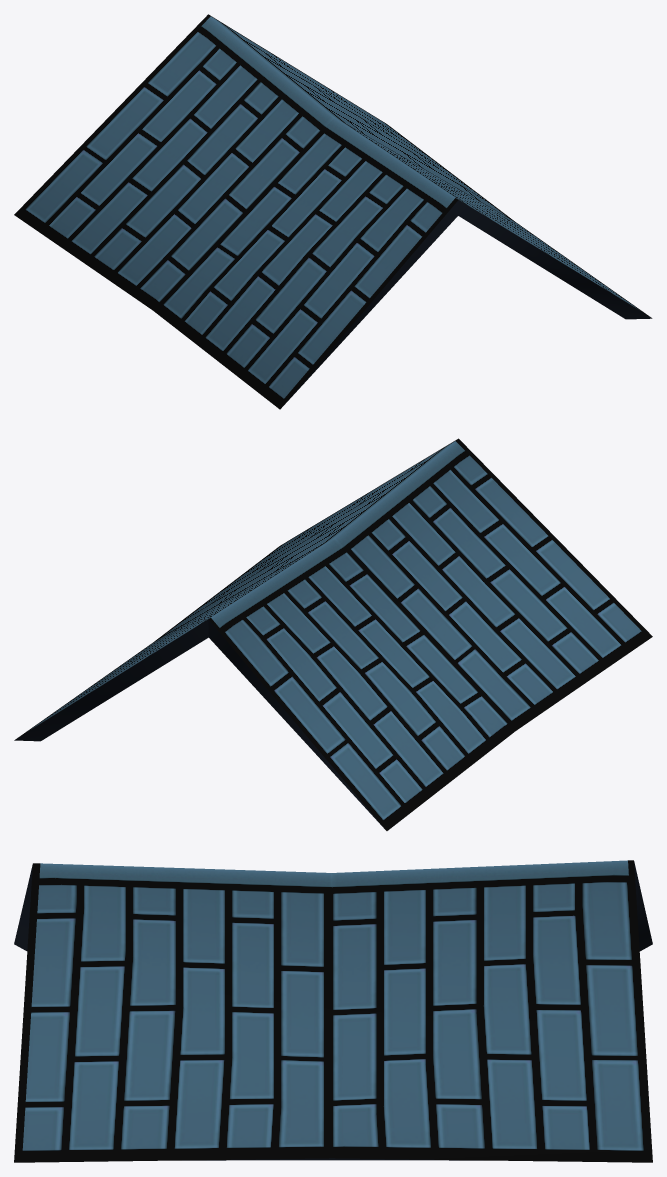
Rendered from house_05.FBX.
3 views of the same model, one above another, from view 1: azimuth 30°, elevation 25°; view 2: azimuth 150°, elevation 25°; view 3: azimuth 270°, elevation 25° (orthographic). The views are drawn at different scales.
Visible parts, largest first — view 1: house_05; view 2: house_05; view 3: house_05.
Part boxes in pixels (x1,y1,x2,y2): house_05: (14,14,652,409); house_05: (14,438,652,830); house_05: (14,860,652,1162).
Bounding box in the file's own units: 614 × 262 × 759.
